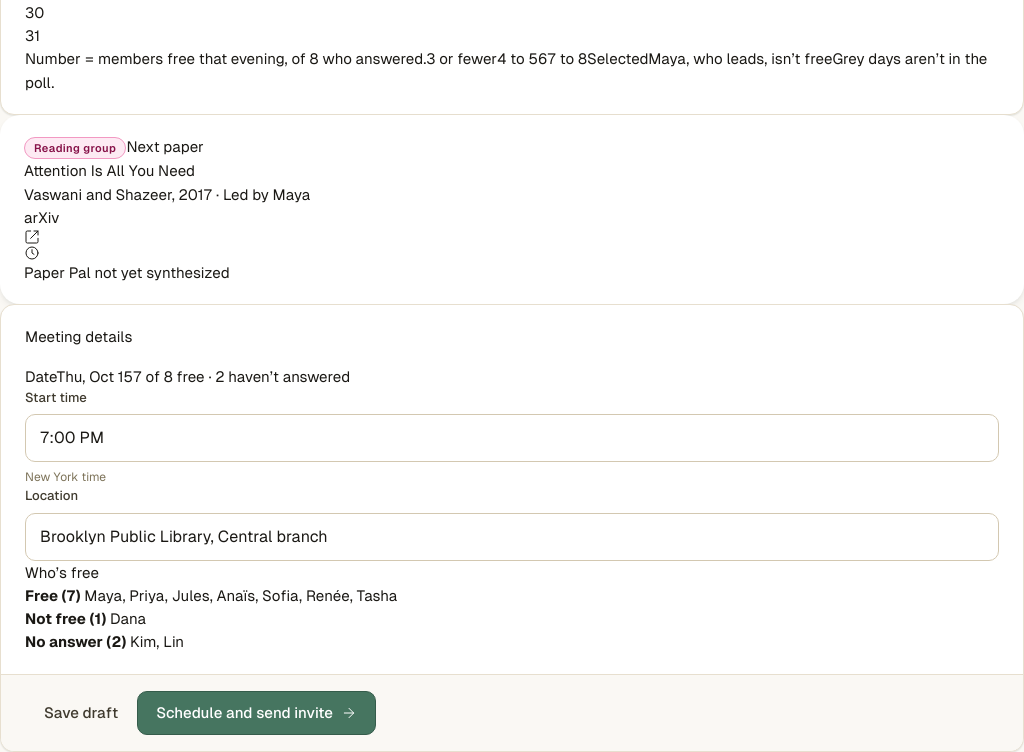
Test: SchedulePage › disables scheduling while the time is unparseable
(page scrolled)
Replace the text in the field labelled "Start time" with "seven-ish" at (512, 438), box [25,414,999,462]
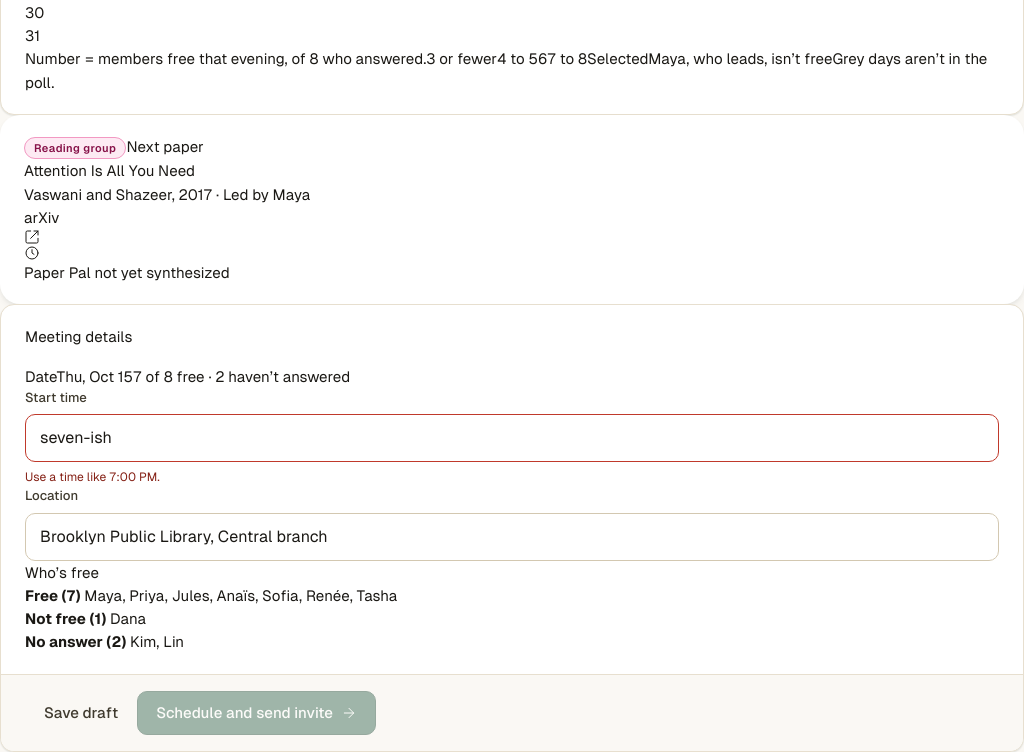
Check: the text "Use a time like 7:00 PM." is shown, box [25,470,160,484]
Check: the button "Schedule and send invite" is disabled, box [137,691,376,735]
